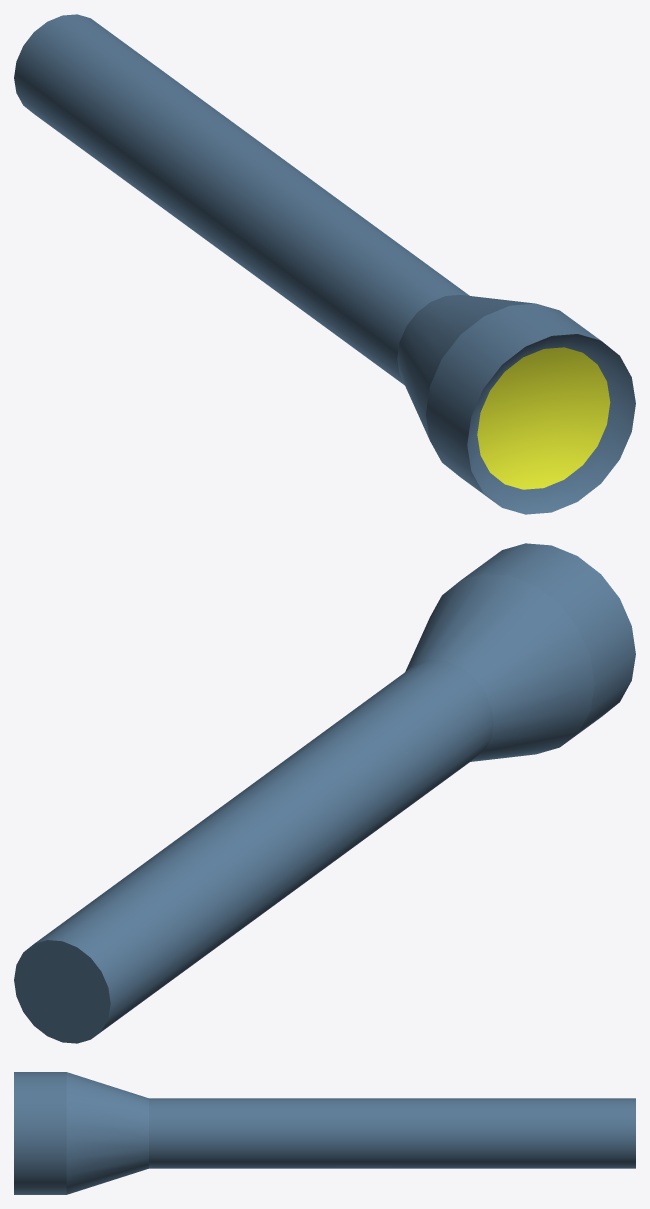
Rendered from Flashlight.fbx.
The picture shows the model from 3 angles, top to bottom: view 1: azimuth 30°, elevation 25°; view 2: azimuth 150°, elevation 25°; view 3: azimuth 270°, elevation 25°; orthographic projection. The views are drawn at different scales.
Visible parts, largest first — view 1: Flashlight; view 2: Flashlight; view 3: Flashlight.
Boxes of the visible parts, x1,y1,x2,y2 form: Flashlight: (14, 14, 635, 514); Flashlight: (14, 543, 635, 1043); Flashlight: (14, 1072, 635, 1194).
Bounding box in the file's own units: 0.1718 × 0.1718 × 0.8623.
